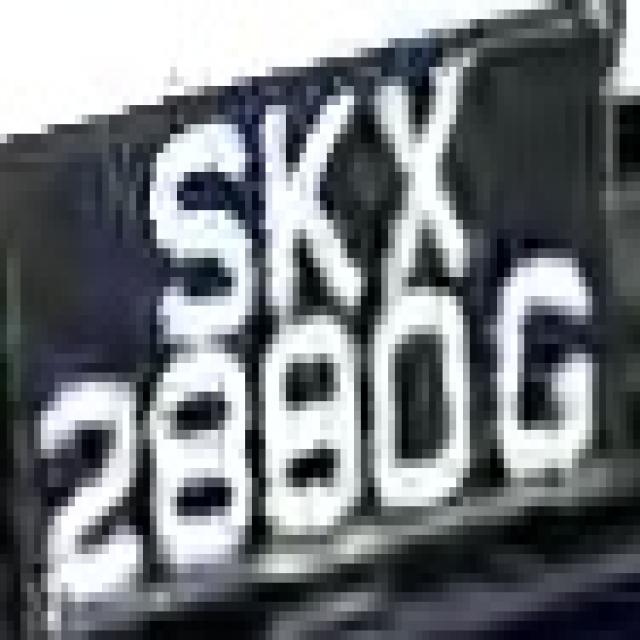0: (354, 268, 490, 526)
2: (21, 354, 136, 612)
8: (143, 306, 252, 573), (252, 287, 361, 554)
G: (470, 258, 606, 487)
K: (245, 67, 354, 296)
S: (129, 115, 252, 344)
X: (354, 29, 483, 277)
